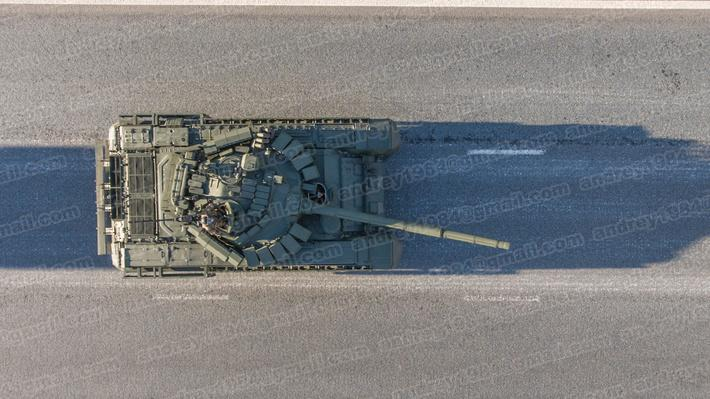tank: (99, 114, 510, 274)
